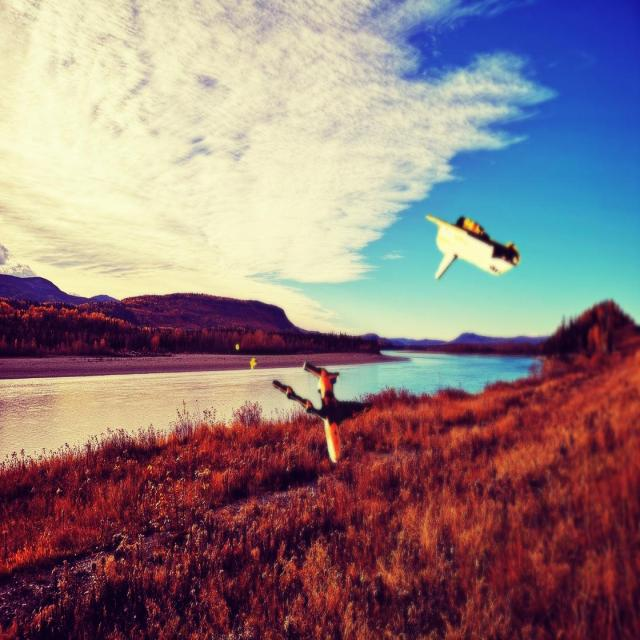airplane: (271, 360, 373, 463), (424, 213, 520, 280)
